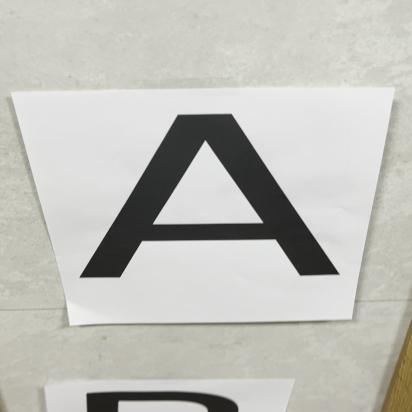seat: (69, 107, 364, 284)
